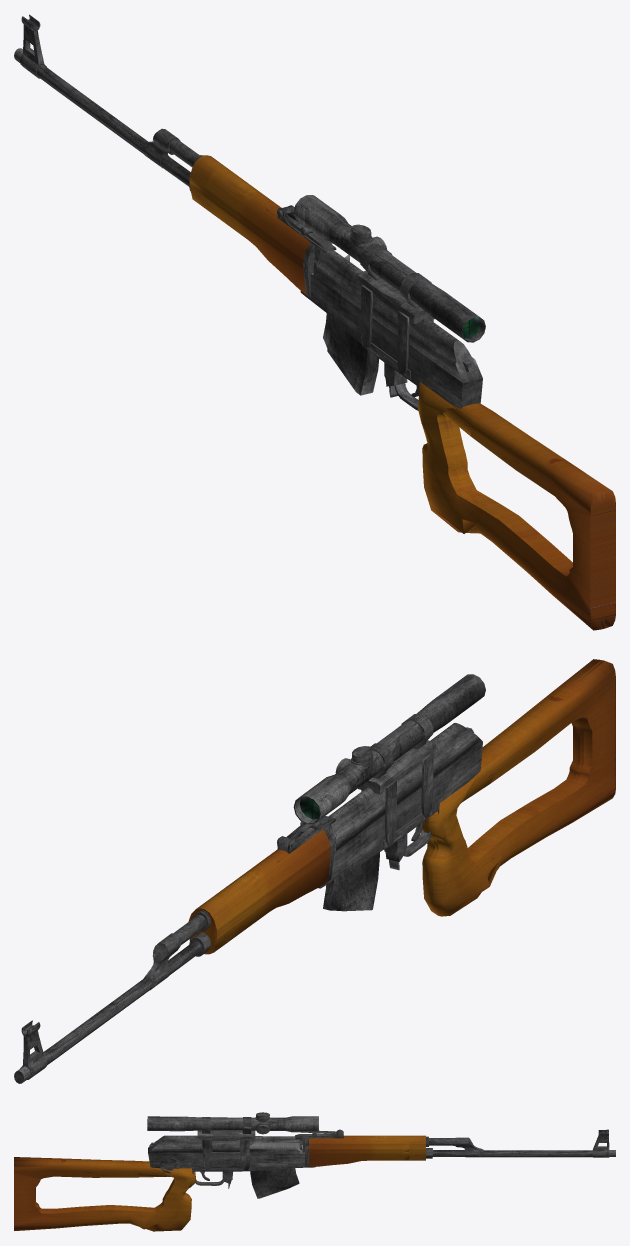
File: svd_world.fbx
3 views of the same model, one above another, from view 1: azimuth 30°, elevation 25°; view 2: azimuth 150°, elevation 25°; view 3: azimuth 270°, elevation 25° (orthographic). The views are drawn at different scales.
Visible parts, largest first — view 1: svd_stock, svd_grip, svd_scopebody, svd_upperbody, svd_lowerbody, svd_barrel, svd_magazine, svd_scopemount, svd_scopeblock, svd_frontsight, svd_scopeholder; view 2: svd_stock, svd_grip, svd_scopebody, svd_barrel, svd_upperbody, svd_lowerbody, svd_magazine, svd_scopemount, svd_scopeblock, svd_frontsight, svd_scopeholder, svd_sightblock; view 3: svd_stock, svd_grip, svd_lowerbody, svd_scopebody, svd_barrel, svd_upperbody, svd_magazine, svd_scopemount, svd_scopeblock, svd_bolt, svd_frontsight, svd_sightblock (+2 smaller).
Part boxes in pixels (x1=…): svd_stock: x1=418, y1=382, x2=615, y2=630; svd_grip: x1=189, y1=155, x2=310, y2=294; svd_scopebody: x1=293, y1=195, x2=485, y2=342; svd_upperbody: x1=313, y1=249, x2=482, y2=383; svd_lowerbody: x1=300, y1=273, x2=482, y2=415; svd_barrel: x1=14, y1=48, x2=204, y2=191; svd_magazine: x1=323, y1=313, x2=379, y2=395; svd_scopemount: x1=360, y1=285, x2=433, y2=379; svd_scopeblock: x1=358, y1=271, x2=434, y2=323; svd_frontsight: x1=19, y1=14, x2=46, y2=78; svd_scopeholder: x1=360, y1=244, x2=431, y2=308; svd_stock: x1=421, y1=659, x2=615, y2=916; svd_grip: x1=188, y1=829, x2=330, y2=954; svd_scopebody: x1=293, y1=674, x2=485, y2=824; svd_barrel: x1=14, y1=910, x2=210, y2=1083; svd_upperbody: x1=328, y1=723, x2=482, y2=851; svd_lowerbody: x1=318, y1=742, x2=482, y2=888; svd_magazine: x1=323, y1=852, x2=379, y2=911; svd_scopemount: x1=361, y1=753, x2=433, y2=849; svd_scopeblock: x1=358, y1=740, x2=435, y2=794; svd_frontsight: x1=20, y1=1020, x2=47, y2=1079; svd_scopeholder: x1=370, y1=714, x2=433, y2=778; svd_sightblock: x1=277, y1=816, x2=336, y2=853; svd_stock: x1=14, y1=1157, x2=196, y2=1231; svd_grip: x1=309, y1=1135, x2=425, y2=1166; svd_lowerbody: x1=148, y1=1149, x2=315, y2=1177; svd_scopebody: x1=147, y1=1116, x2=318, y2=1132; svd_barrel: x1=426, y1=1136, x2=615, y2=1158; svd_upperbody: x1=148, y1=1135, x2=302, y2=1153; svd_magazine: x1=250, y1=1168, x2=299, y2=1198; svd_scopemount: x1=202, y1=1139, x2=250, y2=1170; svd_scopeblock: x1=197, y1=1130, x2=255, y2=1140; svd_bolt: x1=249, y1=1142, x2=302, y2=1153; svd_frontsight: x1=592, y1=1129, x2=609, y2=1157; svd_sightblock: x1=295, y1=1129, x2=343, y2=1152.
Bounding box in the file's own units: 2.47 × 13.35 × 62.74.
